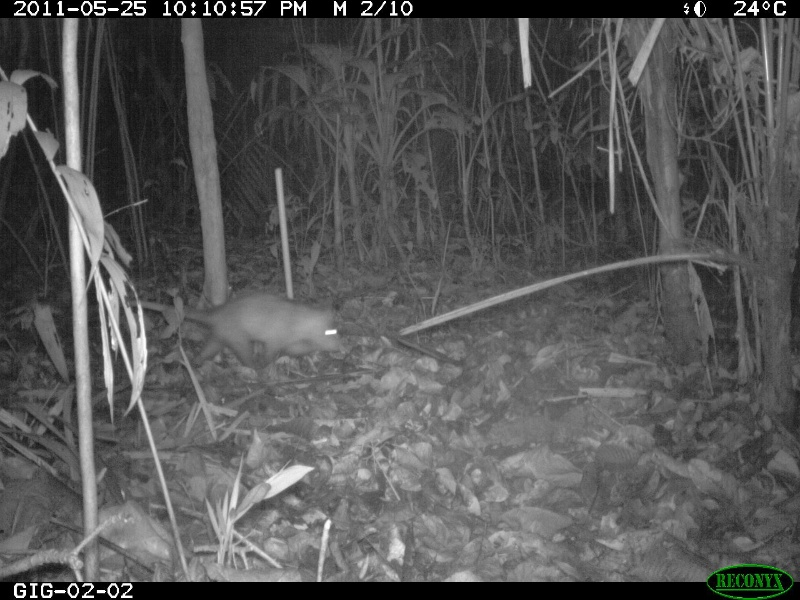opossum: (100, 288, 345, 368)
